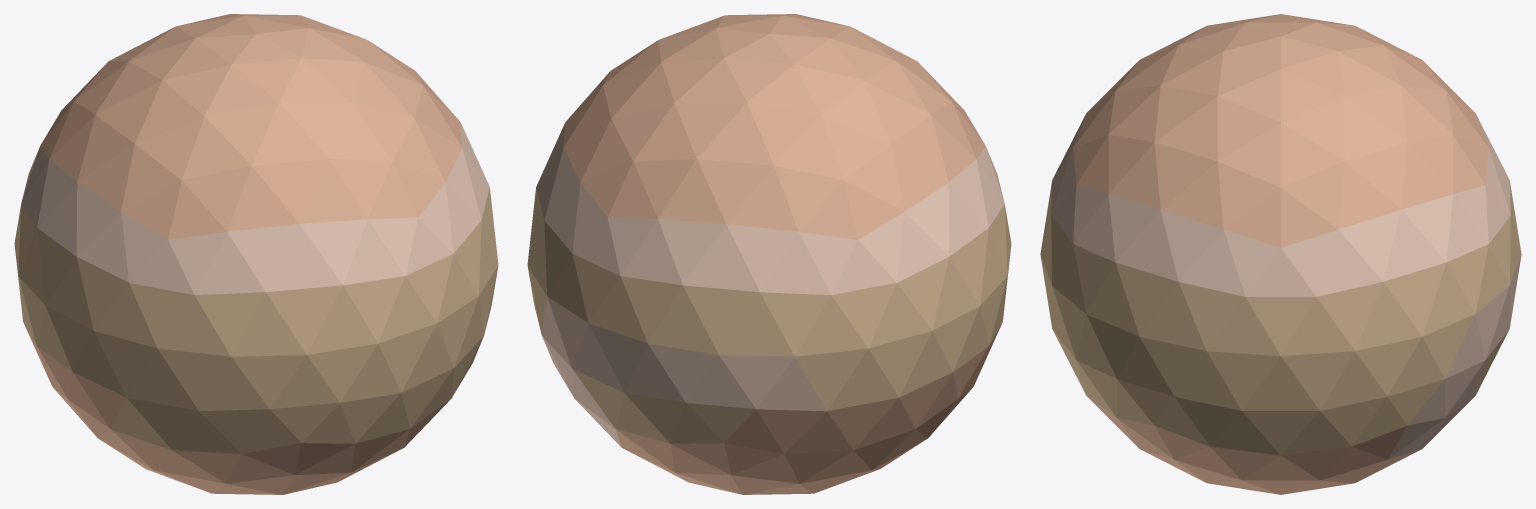
Rendered from jupiter.glb.
3 renders of one model, left to right at view 1: azimuth 30°, elevation 25°; view 2: azimuth 150°, elevation 25°; view 3: azimuth 270°, elevation 25°, orthographic.
Parts seen in each view (by area): view 1: Icosphere.001; view 2: Icosphere.001; view 3: Icosphere.001.
Part boxes in pixels (left/top/right/bottom): Icosphere.001: left=14, top=14, right=498, bottom=494; Icosphere.001: left=527, top=14, right=1011, bottom=494; Icosphere.001: left=1040, top=14, right=1521, bottom=494.
Bounding box in the file's own units: 13.98 × 13.98 × 13.98.
